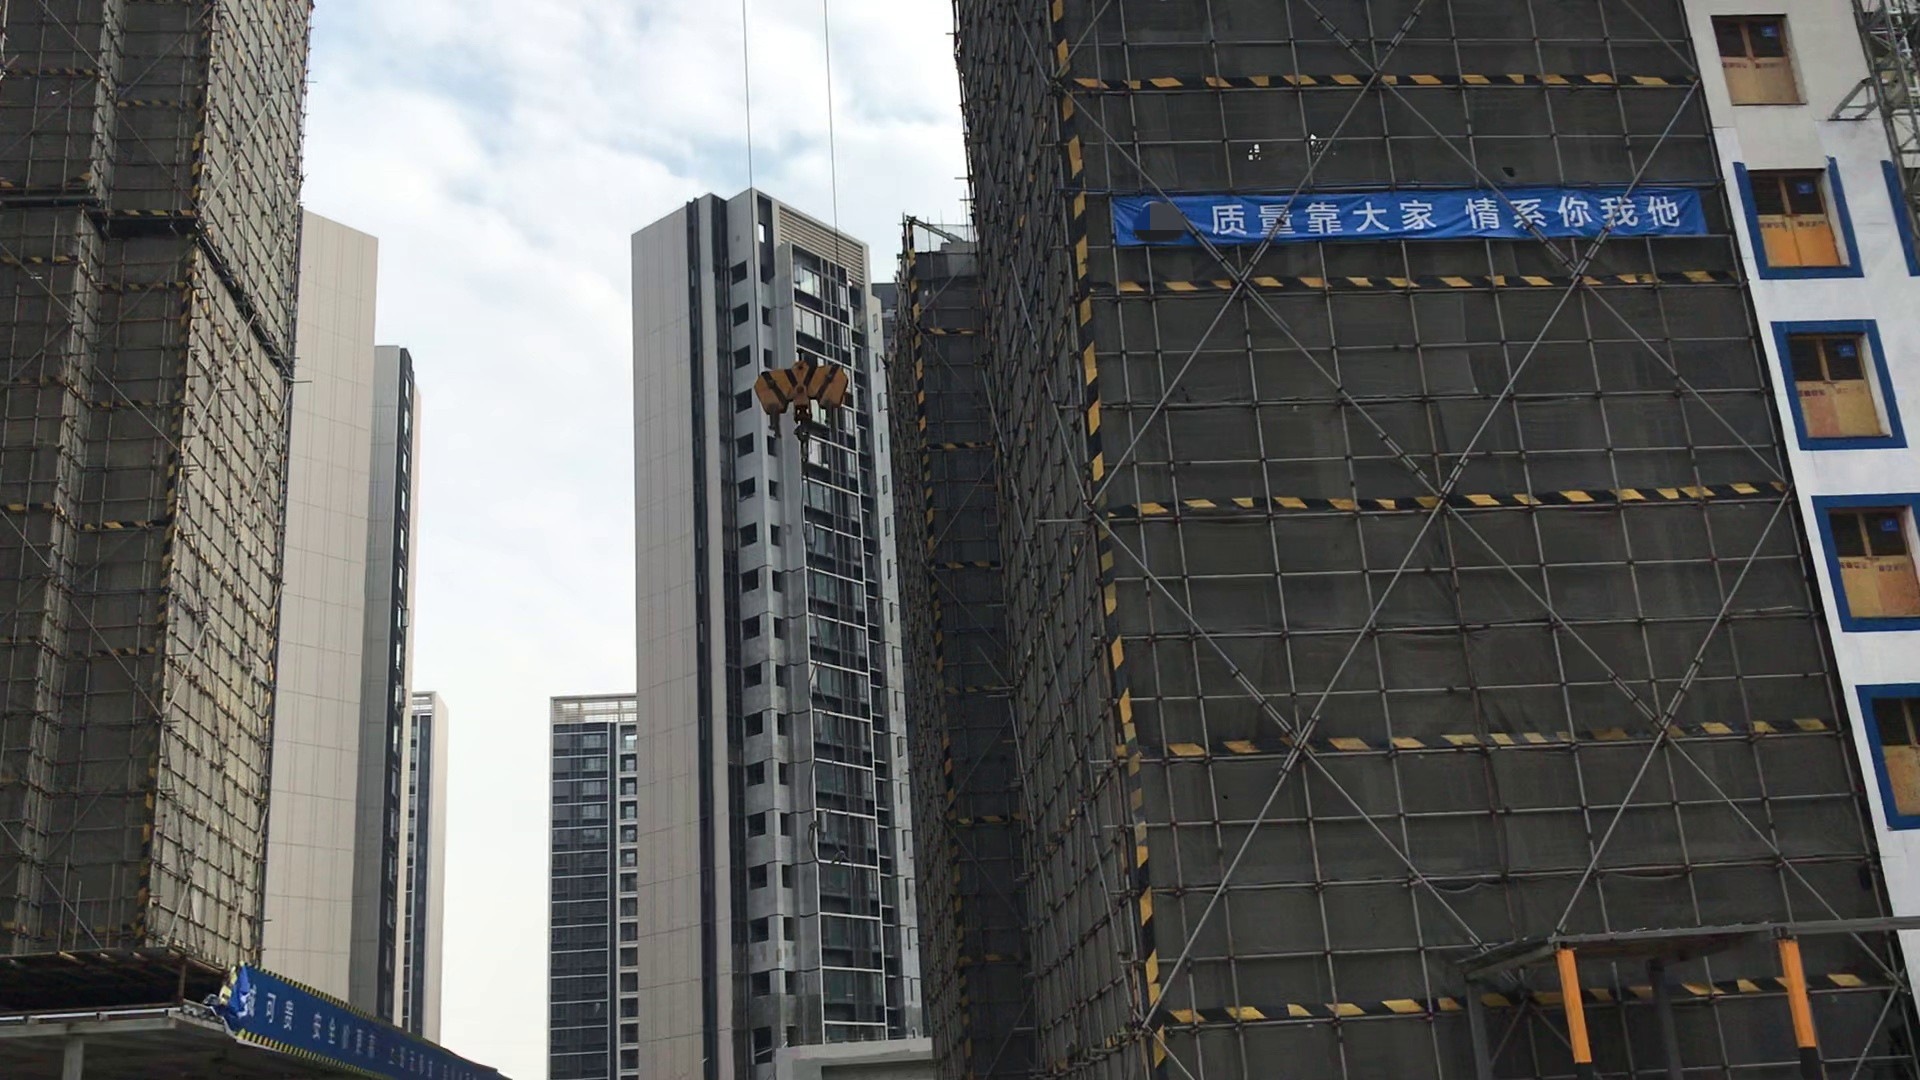hook: (737, 345, 860, 431)
slogan: (1120, 178, 1692, 233), (257, 972, 505, 1080)
